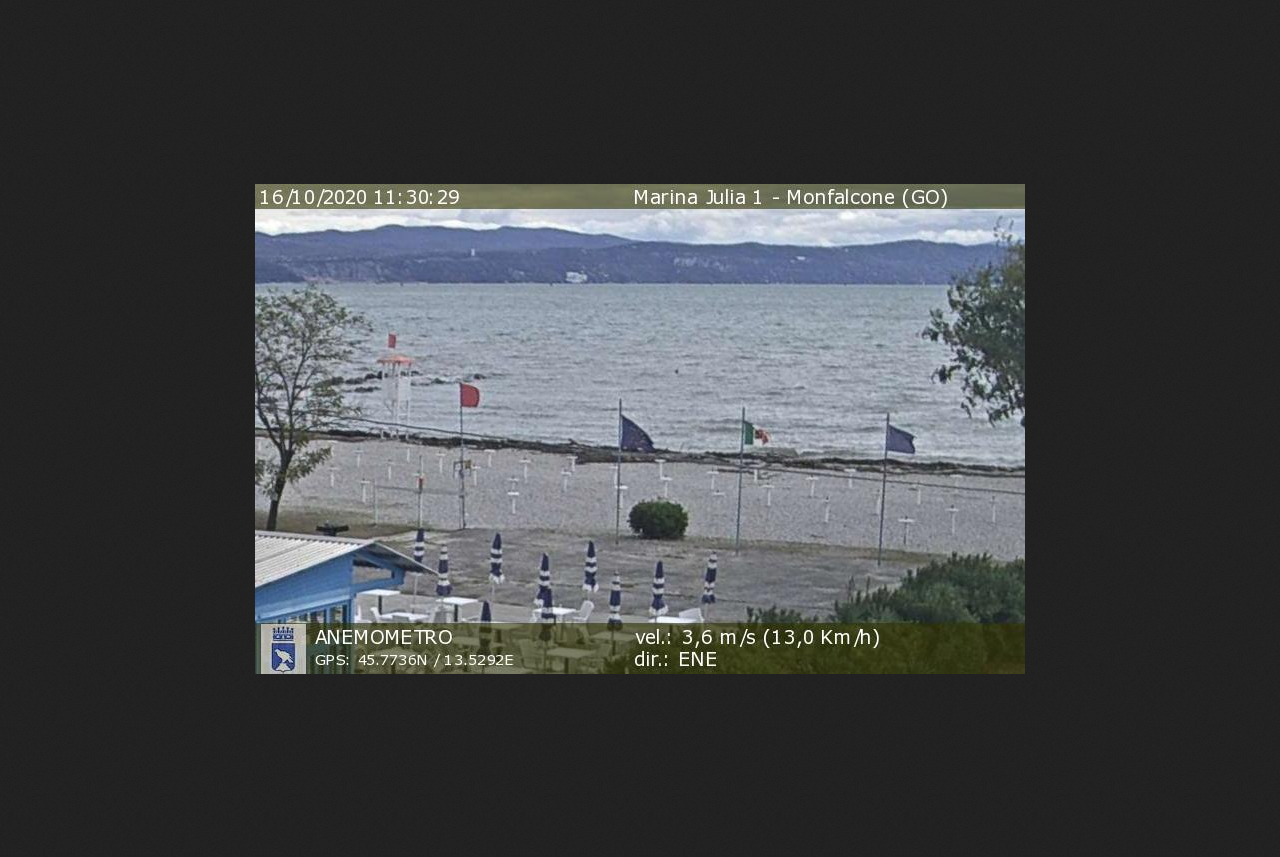maybe: (620, 412, 665, 457), (742, 418, 778, 451)
yes: (883, 423, 918, 455), (459, 383, 483, 410)
